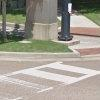Crosswalk: (6, 55, 100, 100)
